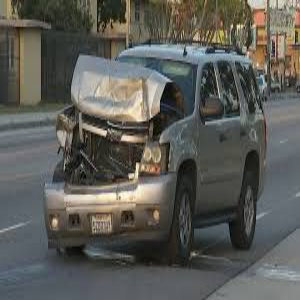bonnet: (75, 58, 167, 120)
bumper: (96, 162, 174, 245)
